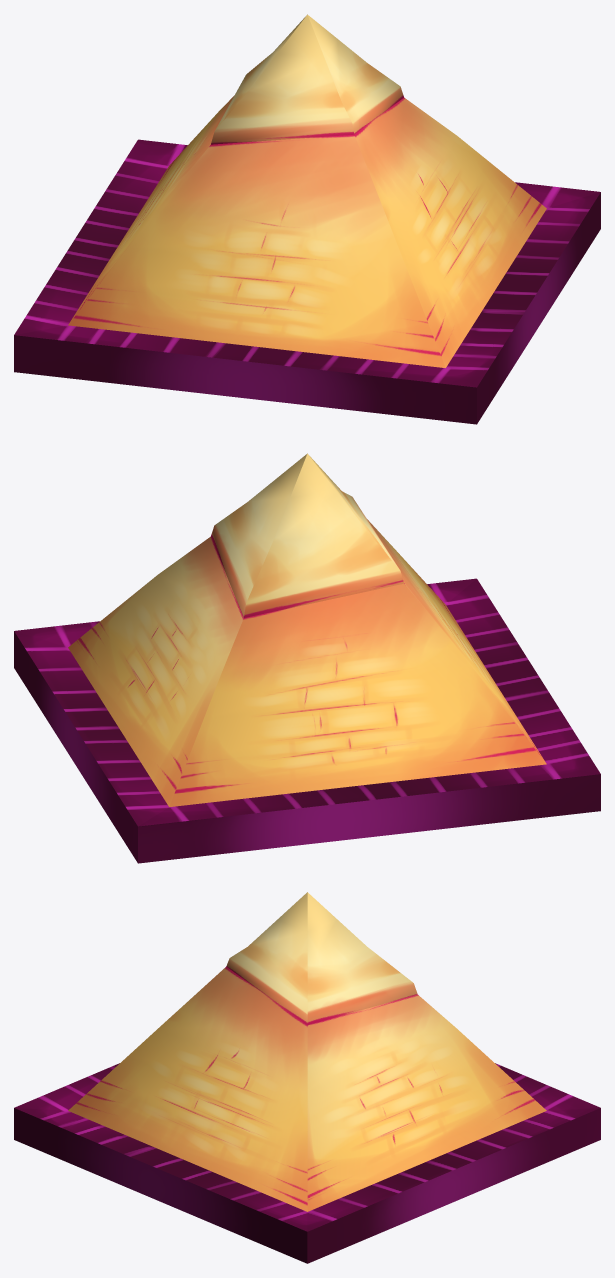
File: Pyramide_Af 1.fbx
3 renders of one model, top to bottom at view 1: azimuth 30°, elevation 25°; view 2: azimuth 150°, elevation 25°; view 3: azimuth 270°, elevation 25°, orthographic. The views are drawn at different scales.
Parts seen in each view (by area): view 1: Pyram; view 2: Pyram; view 3: Pyram.
Part boxes in pixels (x1,y1,x2,y2): Pyram: (14,14,600,424); Pyram: (14,453,600,863); Pyram: (14,892,600,1263).
Size of the model in its own units: 18.12 by 8.44 by 18.12.
